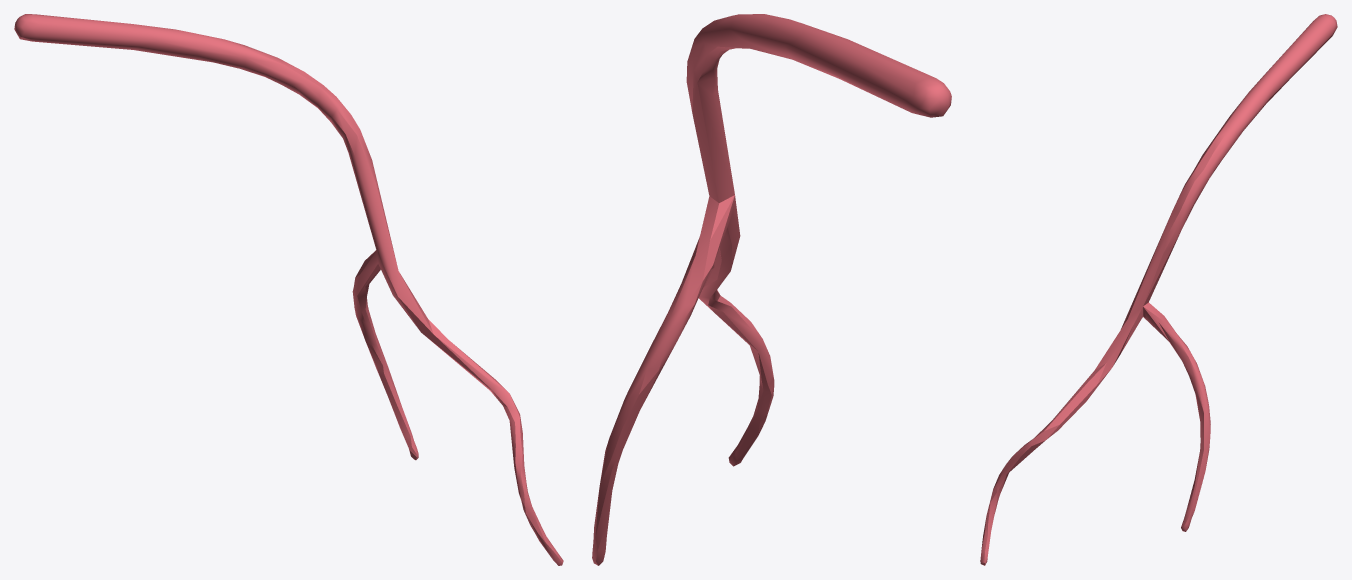
Rendered from fma50824_fj4999.glb.
3 renders of one model, left to right at view 1: azimuth 30°, elevation 25°; view 2: azimuth 150°, elevation 25°; view 3: azimuth 270°, elevation 25°, orthographic. The views are drawn at different scales.
Visible parts, largest first — view 1: FMA50824_FJ4999; view 2: FMA50824_FJ4999; view 3: FMA50824_FJ4999.
Boxes of the visible parts, x1,y1,x2,y2 form: FMA50824_FJ4999: [14, 14, 563, 565]; FMA50824_FJ4999: [592, 14, 951, 565]; FMA50824_FJ4999: [980, 14, 1337, 565].
Size of the model in its own units: 0.0135 by 0.018 by 0.0141.
